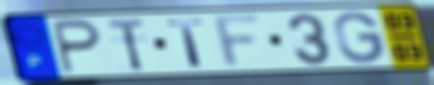3: (287, 12, 333, 67)
F: (211, 12, 266, 71)
G: (332, 10, 387, 66)
P: (50, 18, 104, 76)
T: (104, 16, 148, 73), (164, 17, 208, 68)
